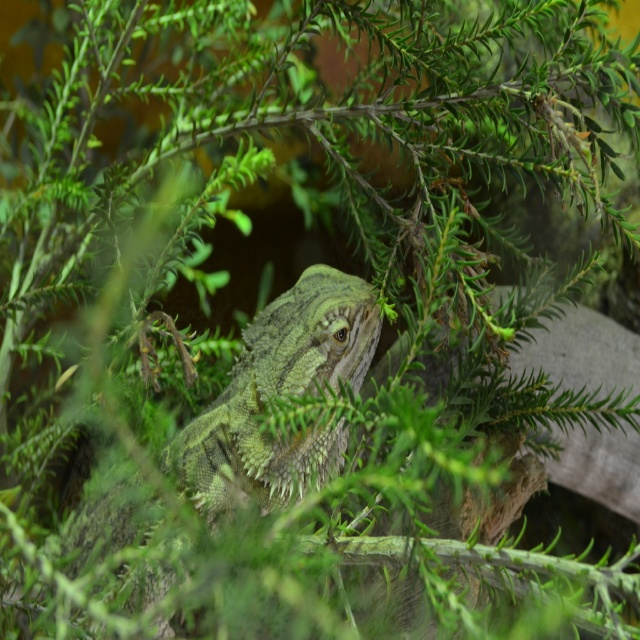Lizard: (0, 269, 386, 639)
